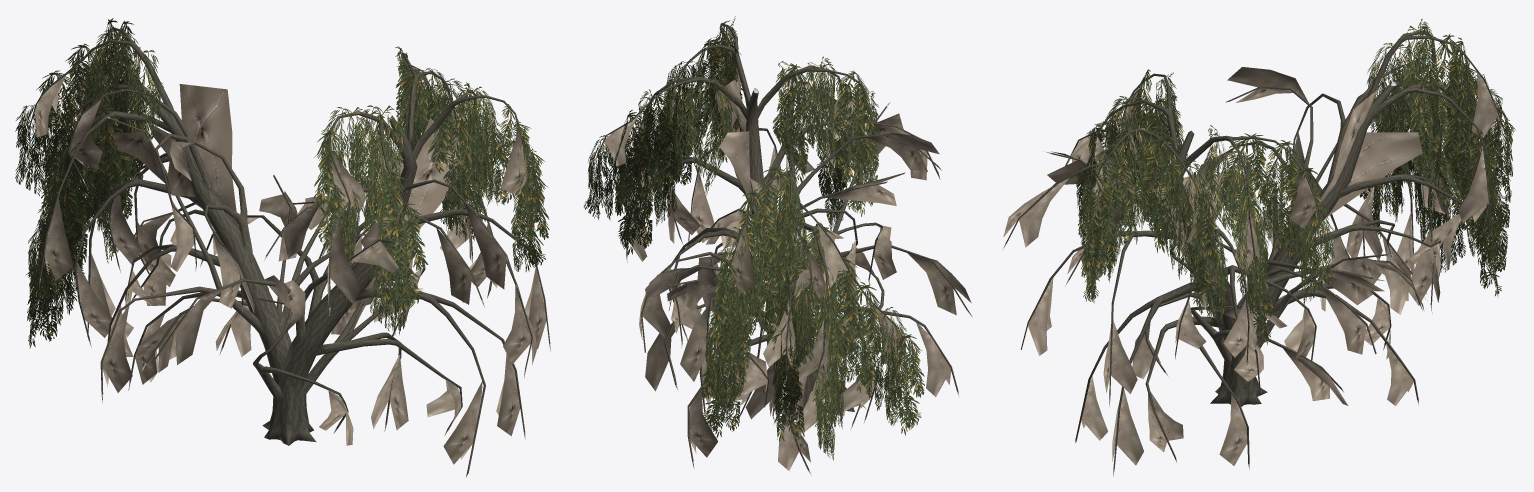
Rendered from MarshWillow_3.fbx.
3 renders of one model, left to right at view 1: azimuth 30°, elevation 25°; view 2: azimuth 150°, elevation 25°; view 3: azimuth 270°, elevation 25°, orthographic. The views are drawn at different scales.
Visible parts, largest first — view 1: MarshWillow_3; view 2: MarshWillow_3; view 3: MarshWillow_3.
Part boxes in pixels (x1,y1,x2,y2): MarshWillow_3: (15,18,550,477); MarshWillow_3: (584,16,972,476); MarshWillow_3: (1002,19,1515,476).
Bounding box in the file's own units: 35.05 × 33.4 × 41.92.
